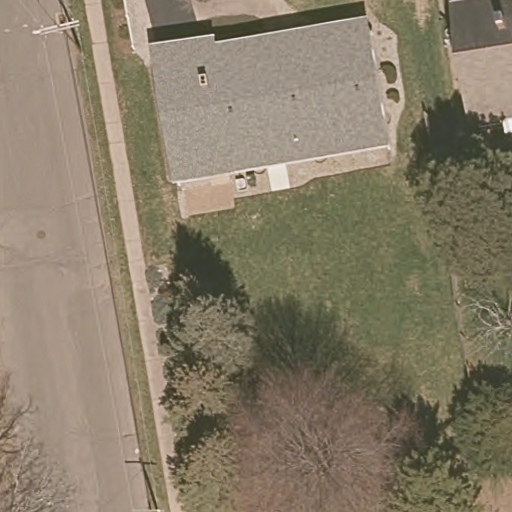DT: (31, 11, 80, 38), (137, 458, 160, 512)
